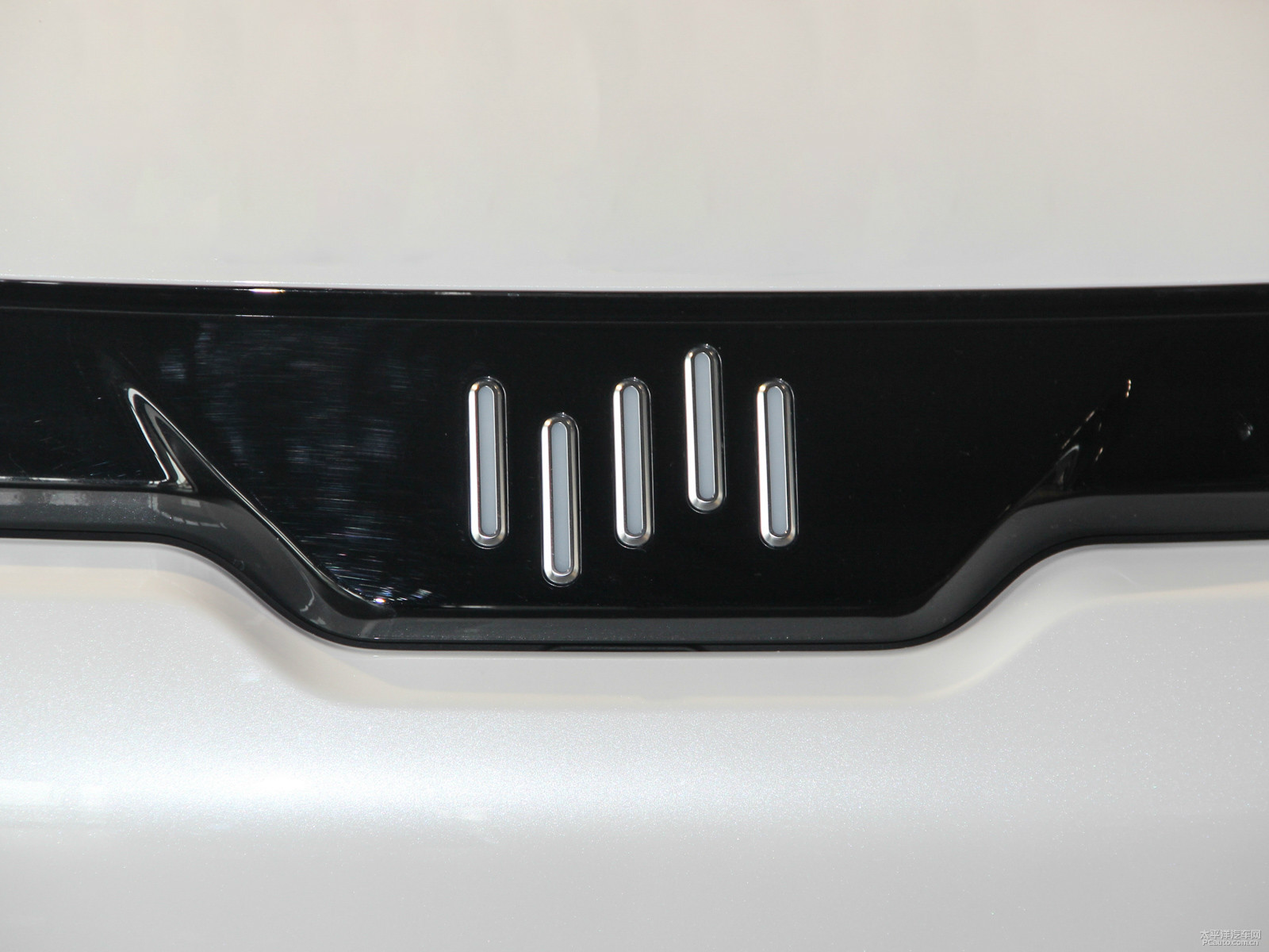WELTMEISTER: (471, 346, 796, 583)
